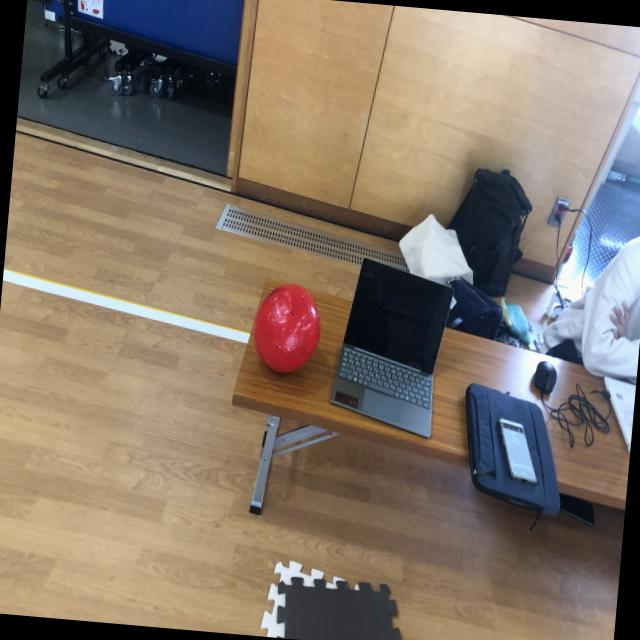red_ball: (250, 279, 323, 376)
